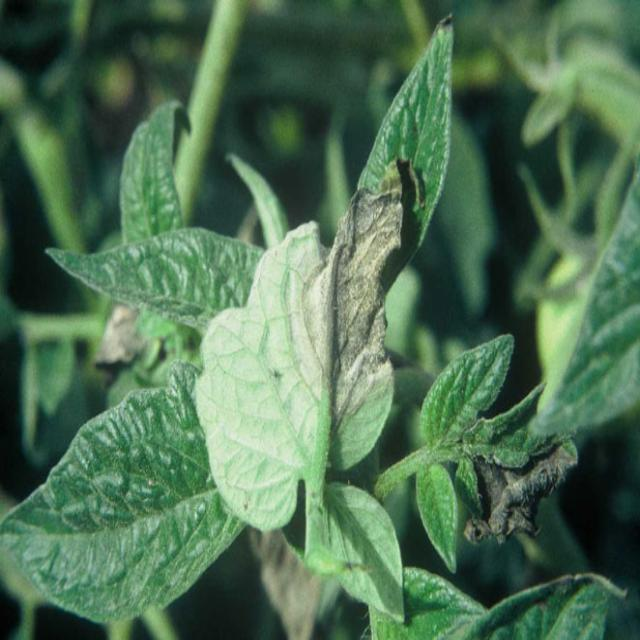Late_blight: (289, 155, 422, 425), (454, 437, 579, 545), (90, 301, 151, 366)
